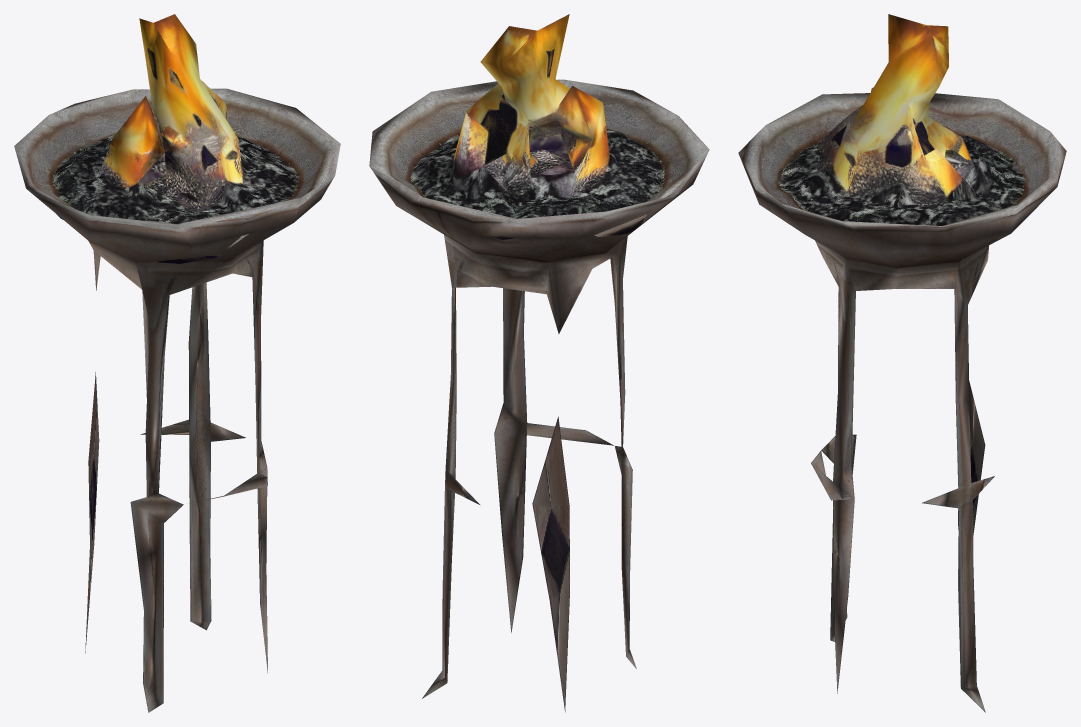
File: p_standing_torch.glb
The picture shows the model from 3 angles, left to right: view 1: azimuth 30°, elevation 25°; view 2: azimuth 150°, elevation 25°; view 3: azimuth 270°, elevation 25°; orthographic projection. The views are drawn at different scales.
Parts seen in each view (by area): view 1: Mesh_0; view 2: Mesh_0; view 3: Mesh_0.
Boxes of the visible parts, x1=… form: Mesh_0: x1=14, y1=14, x2=340, y2=712; Mesh_0: x1=369, y1=14, x2=709, y2=712; Mesh_0: x1=738, y1=14, x2=1066, y2=712.
Size of the model in its own units: 0.8201 by 1.81 by 0.827.
1 material, 1 textured.
